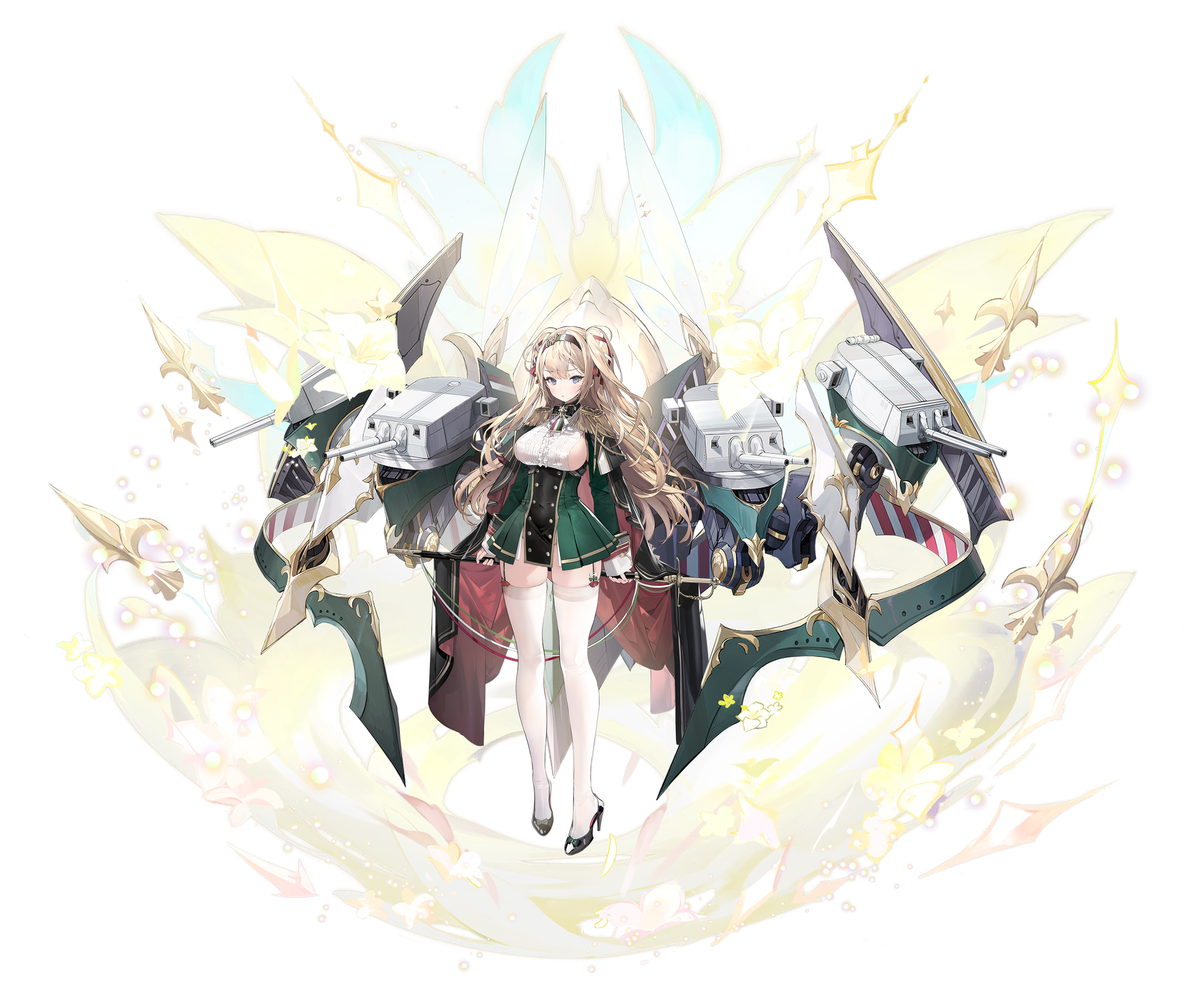person: (435, 274, 668, 879)
